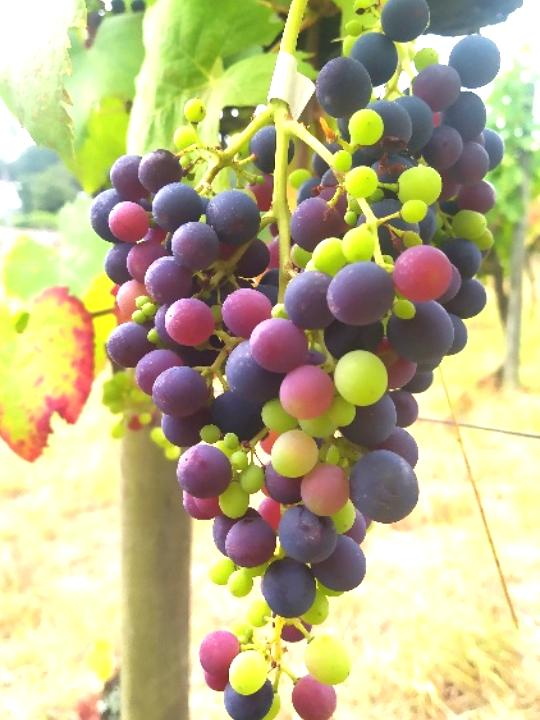grape: (85, 0, 510, 720)
